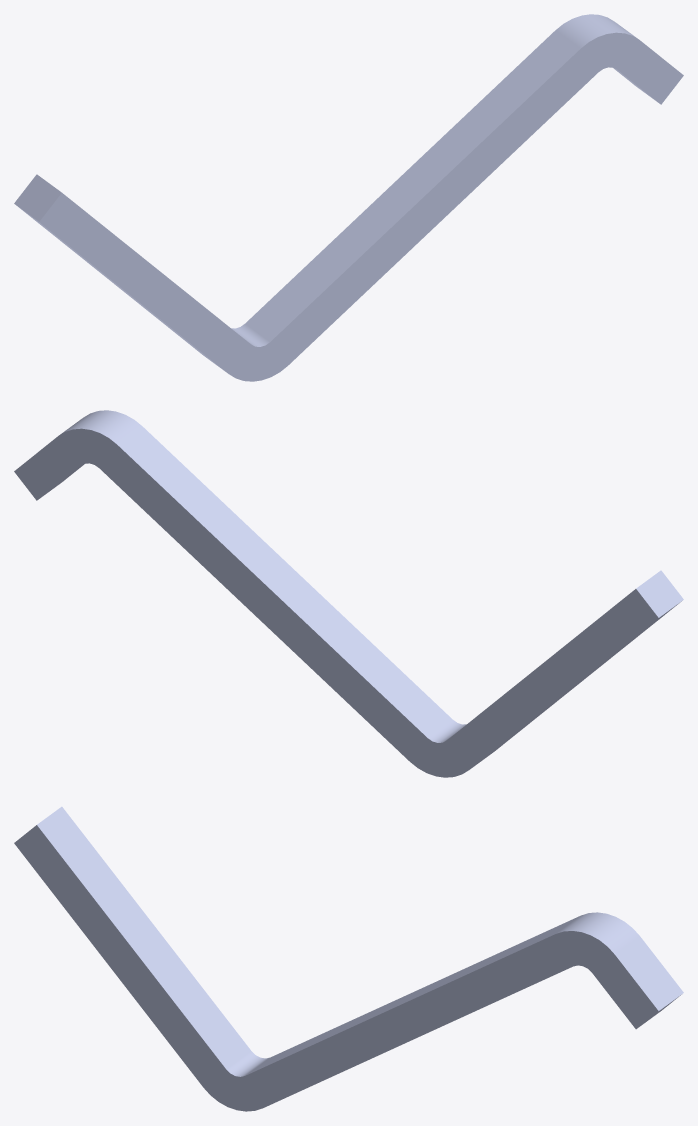
File: body19_visual.obj
The picture shows the model from 3 angles, top to bottom: view 1: azimuth 30°, elevation 25°; view 2: azimuth 150°, elevation 25°; view 3: azimuth 330°, elevation 25°; orthographic projection.
Parts seen in each view (by area): view 1: Body19; view 2: Body19; view 3: Body19.
Boxes of the visible parts, left/top/right/bottom form: Body19: left=14, top=14, right=683, bottom=381; Body19: left=14, top=410, right=683, bottom=777; Body19: left=14, top=806, right=683, bottom=1111.
Bounding box in the file's own units: 1.04 × 0.4044 × 0.0705.
